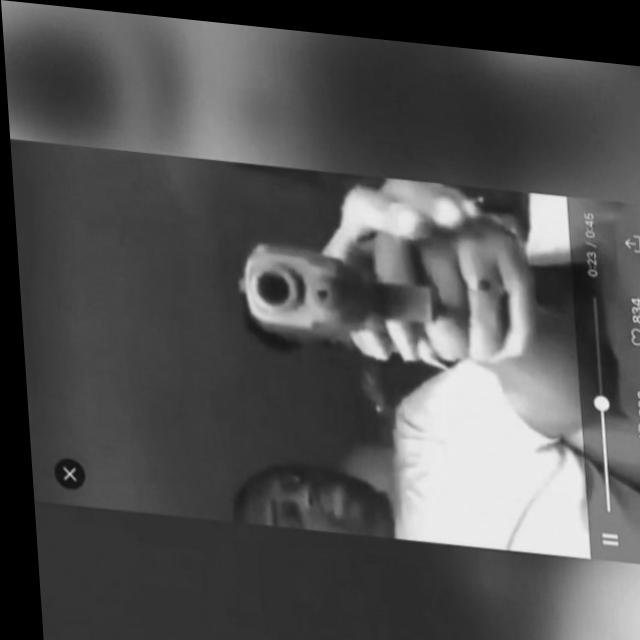handgun: (236, 226, 451, 344)
